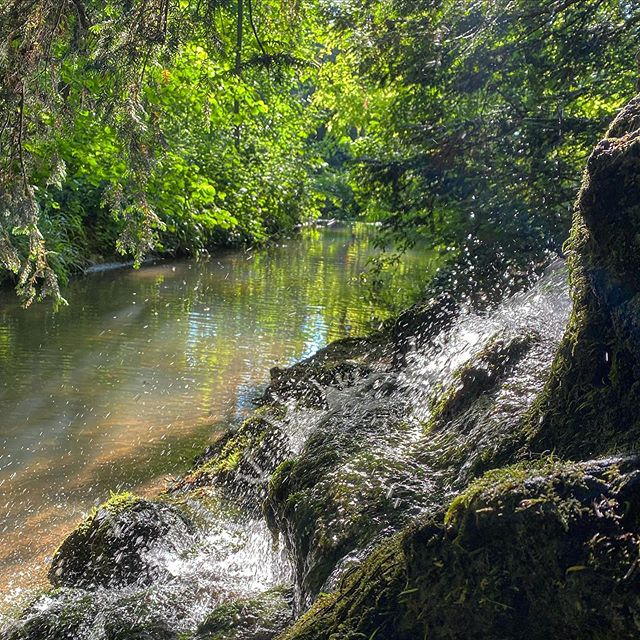river: (1, 226, 448, 588)
vegetation: (1, 1, 633, 239)
